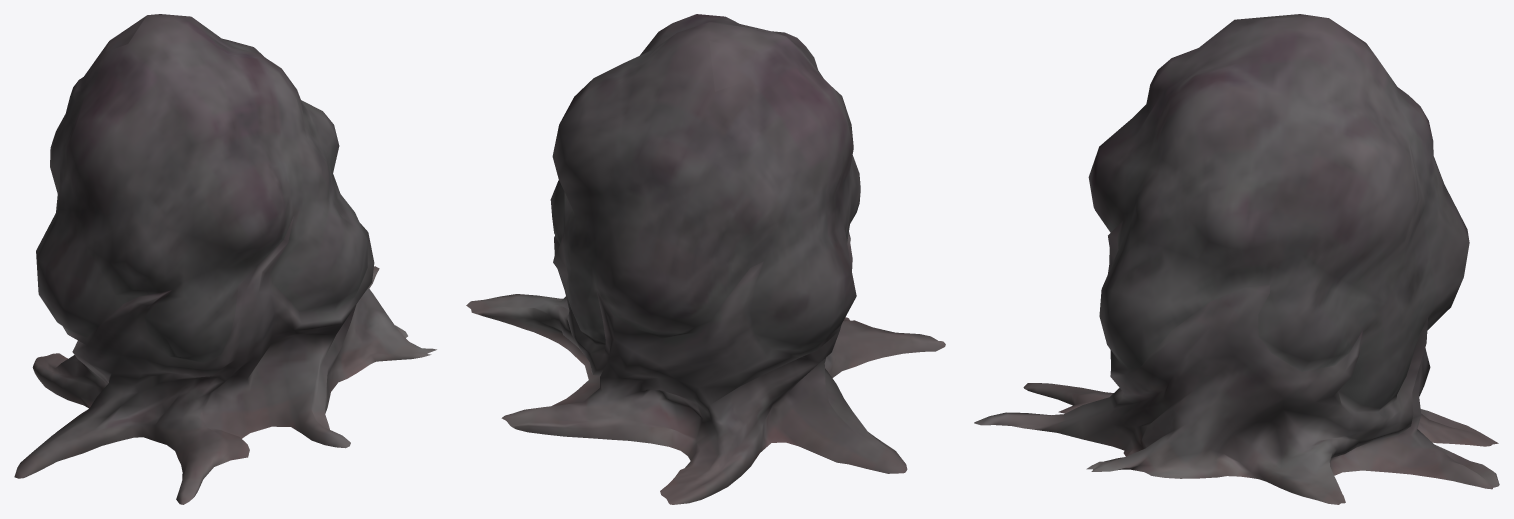
The model's file is Cocoon (7).fbx.
3 views of the same model, side by side, from view 1: azimuth 30°, elevation 25°; view 2: azimuth 150°, elevation 25°; view 3: azimuth 270°, elevation 25° (orthographic). The views are drawn at different scales.
Visible parts, largest first — view 1: Egg; view 2: Egg; view 3: Egg.
Part boxes in pixels (left/top/right/bottom): Egg: left=14, top=14, right=436, bottom=504; Egg: left=466, top=14, right=945, bottom=504; Egg: left=974, top=14, right=1499, bottom=504.
Bounding box in the file's own units: 1.8 × 1.76 × 1.81.
1 material, 1 textured.
